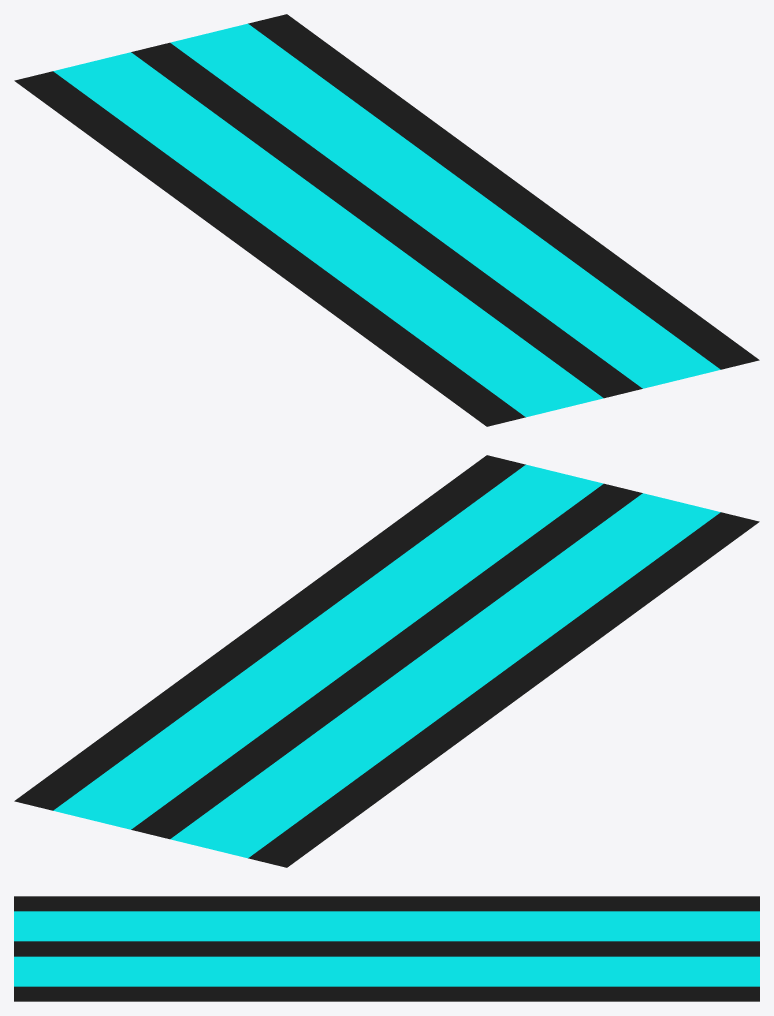
The model's file is RaceTrack_Straight_15m 1.fbx.
3 views of the same model, one above another, from view 1: azimuth 30°, elevation 25°; view 2: azimuth 150°, elevation 25°; view 3: azimuth 270°, elevation 25° (orthographic). The views are drawn at different scales.
Parts seen in each view (by area): view 1: Straight_15m; view 2: Straight_15m; view 3: Straight_15m.
Boxes of the visible parts, x1,y1,x2,y2 form: Straight_15m: [14, 14, 759, 426]; Straight_15m: [14, 455, 759, 867]; Straight_15m: [14, 896, 759, 1001].
Bounding box in the file's own units: 5 × 1.31e-06 × 15.
